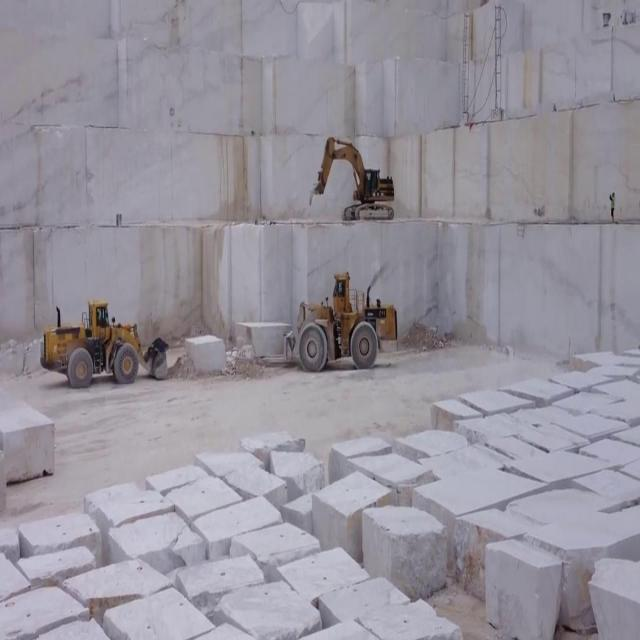Excavator: (308, 132, 397, 220)
Loader: (38, 294, 170, 388), (282, 263, 398, 365)
